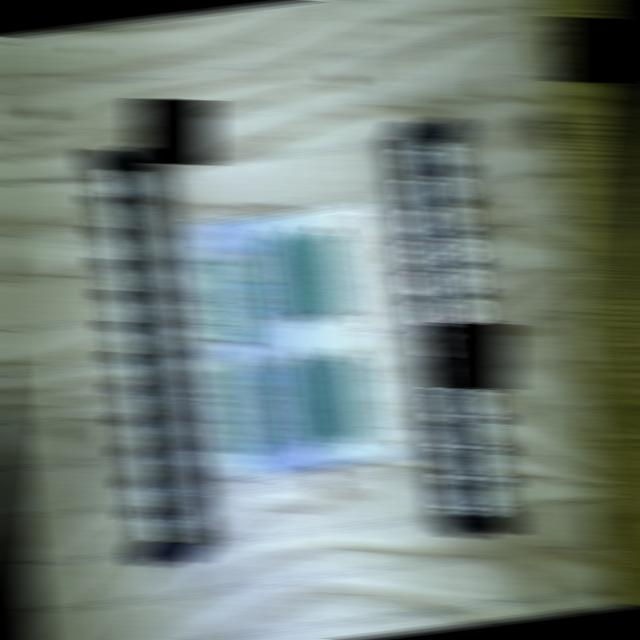Flathead_Block: (84, 144, 202, 567)
Phillips_Block: (397, 115, 519, 540)
Terminal_1: (210, 254, 252, 345), (225, 367, 267, 457)
Terminal_2: (277, 361, 319, 447), (286, 231, 328, 316), (262, 234, 303, 320), (303, 358, 344, 443), (329, 353, 370, 438)
